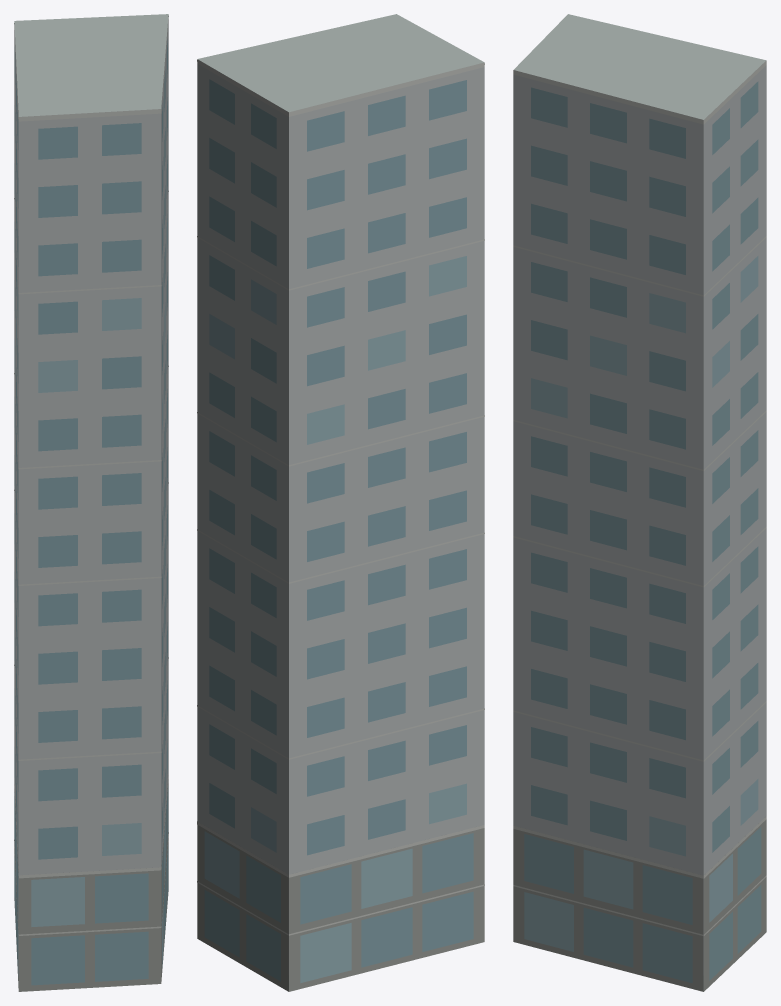
Rendered from survey-upis-32599440.glb.
The picture shows the model from 3 angles, left to right: view 1: azimuth 30°, elevation 25°; view 2: azimuth 150°, elevation 25°; view 3: azimuth 270°, elevation 25°; orthographic projection.
Visible parts, largest first — view 1: survey-upis-32599440.tmp; view 2: survey-upis-32599440.tmp; view 3: survey-upis-32599440.tmp.
Part boxes in pixels (x1,y1,x2,y2): survey-upis-32599440.tmp: [14, 14, 168, 991]; survey-upis-32599440.tmp: [197, 14, 484, 991]; survey-upis-32599440.tmp: [513, 14, 766, 991].
Bounding box in the file's own units: 11.94 × 45.75 × 12.06.
